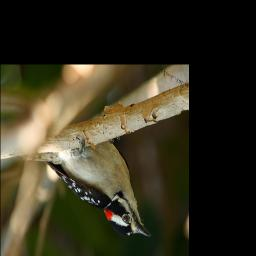Woodpecker: (20, 133, 152, 243)
